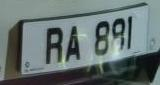1: (125, 12, 139, 54)
8: (93, 15, 113, 61)
9: (111, 13, 128, 57)
A: (63, 19, 84, 64)
R: (43, 22, 65, 69)
